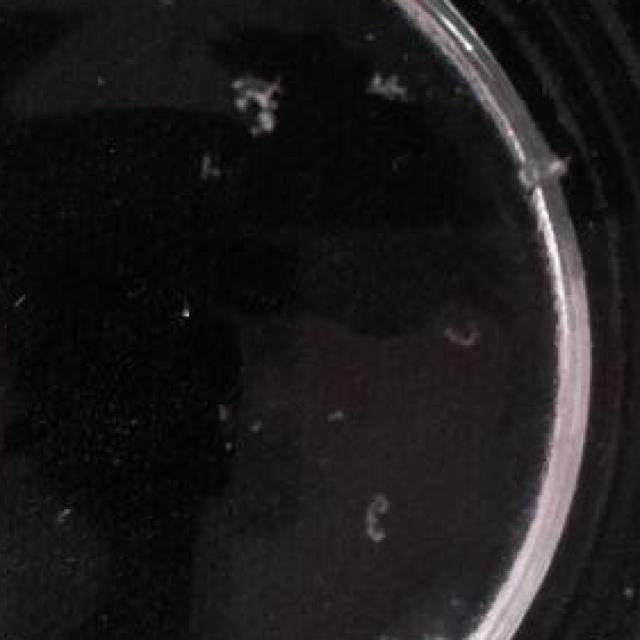Microplastic: (225, 60, 282, 164), (355, 476, 403, 557), (351, 59, 401, 112), (517, 150, 583, 190), (368, 618, 462, 640)
